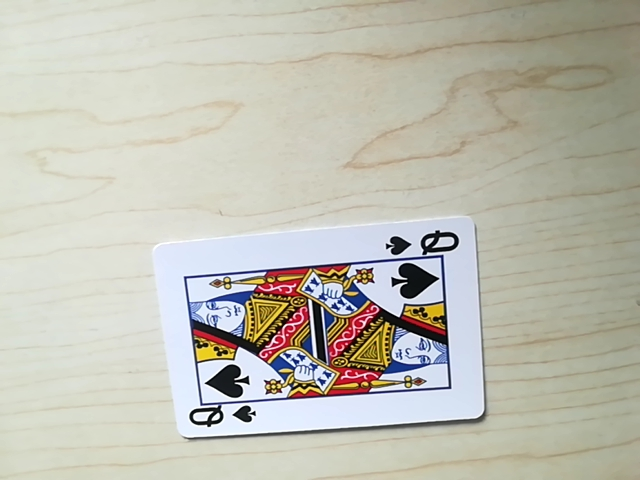ht q: (183, 399, 255, 436), (384, 227, 463, 257)
